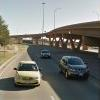Car: (11, 51, 45, 89)
